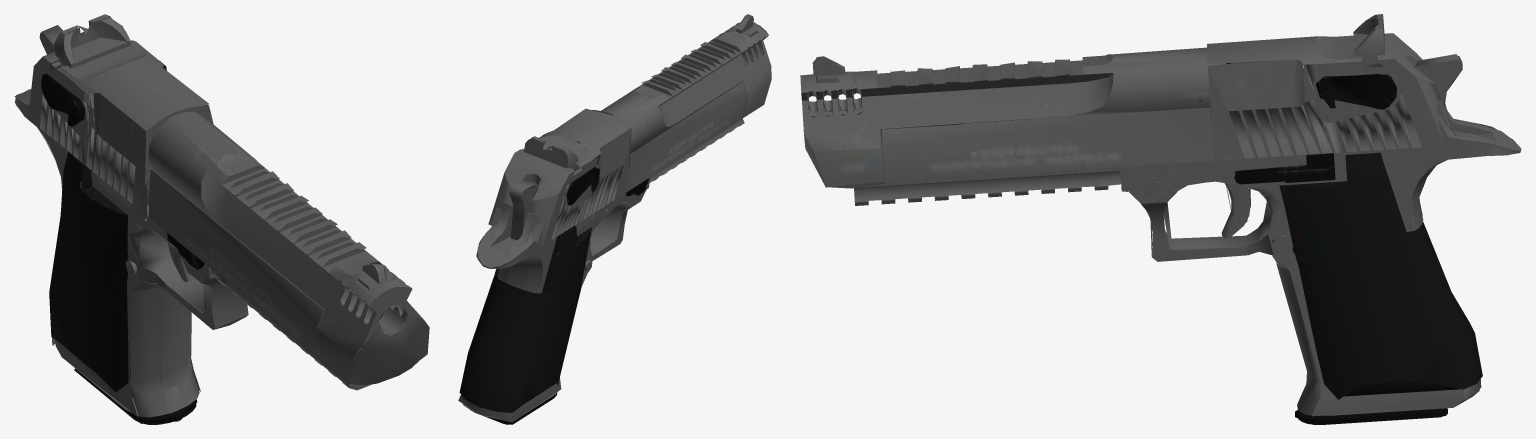
Rendered from Pistol_Magnum.fbx.
3 renders of one model, left to right at view 1: azimuth 30°, elevation 25°; view 2: azimuth 150°, elevation 25°; view 3: azimuth 270°, elevation 25°, orthographic. The views are drawn at different scales.
Parts seen in each view (by area): view 1: GunMesh; view 2: GunMesh; view 3: GunMesh.
Boxes of the visible parts, x1,y1,x2,y2 form: GunMesh: [14, 14, 429, 424]; GunMesh: [458, 14, 771, 424]; GunMesh: [800, 14, 1521, 424].
Bounding box in the file's own units: 0.0557 × 0.1558 × 0.27.
Materials: 1 (1 with a texture image).
